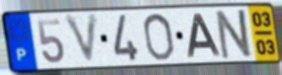4: (113, 13, 141, 64)
5: (35, 17, 66, 65)
A: (186, 13, 224, 59)
N: (214, 7, 255, 61)
O: (141, 12, 176, 63)
V: (62, 11, 101, 67)
